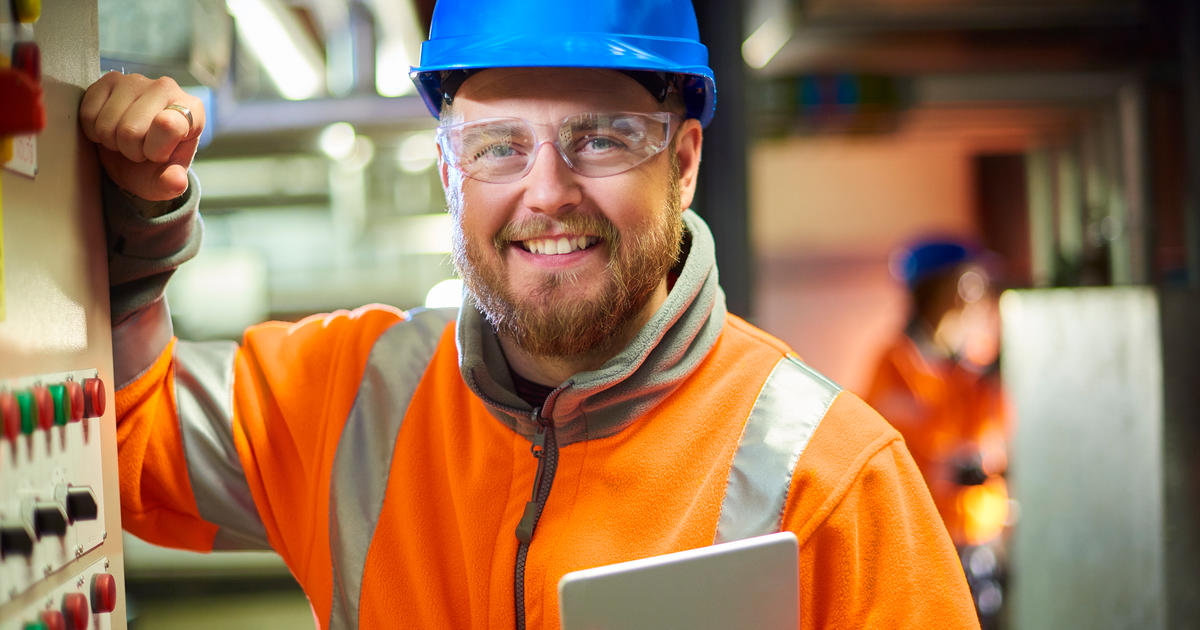Person_wearing_helmet: (398, 1, 732, 204)
